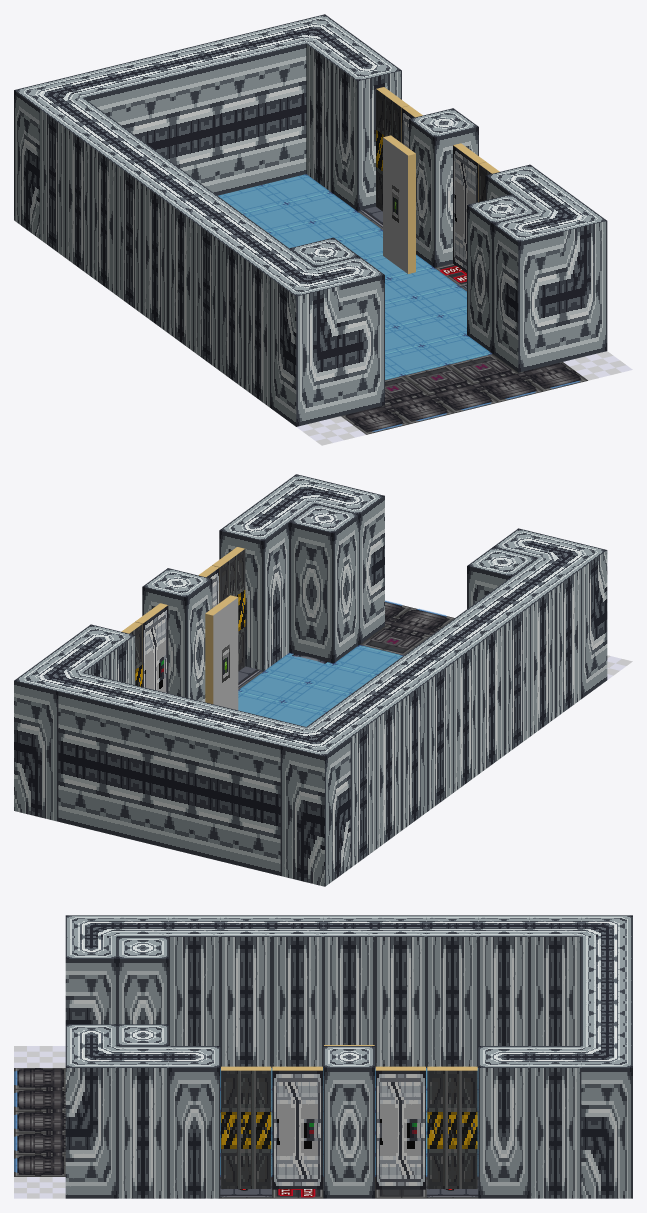
Rendered from cargo_box.performance.glb.
The picture shows the model from 3 angles, top to bottom: view 1: azimuth 30°, elevation 25°; view 2: azimuth 150°, elevation 25°; view 3: azimuth 270°, elevation 25°; orthographic projection.
Visible parts, largest first — view 1: Wall tiles, Floor tiles, Doors - merged, Machines - merged, Plating tiles; view 2: Wall tiles, Doors - merged, Floor tiles, Machines - merged, Plating tiles; view 3: Wall tiles, Doors - merged, Machines - merged, Floor tiles, Plating tiles.
Part boxes in pixels (x1,y1,x2,y2): Wall tiles: (14, 14, 607, 426); Floor tiles: (218, 174, 631, 444); Doors - merged: (376, 87, 499, 273); Machines - merged: (345, 206, 580, 431); Plating tiles: (341, 211, 587, 434); Wall tiles: (14, 474, 607, 886); Doors - merged: (121, 547, 245, 710); Floor tiles: (238, 645, 631, 726); Machines - merged: (238, 600, 447, 687); Plating tiles: (238, 601, 454, 689); Wall tiles: (65, 915, 632, 1198); Doors - merged: (221, 1045, 477, 1189); Machines - merged: (14, 1068, 478, 1197); Floor tiles: (14, 1046, 478, 1197); Plating tiles: (14, 1068, 478, 1198).
Size of the model in its own units: 7 by 2.8 by 12.
11 materials, 10 textured.
